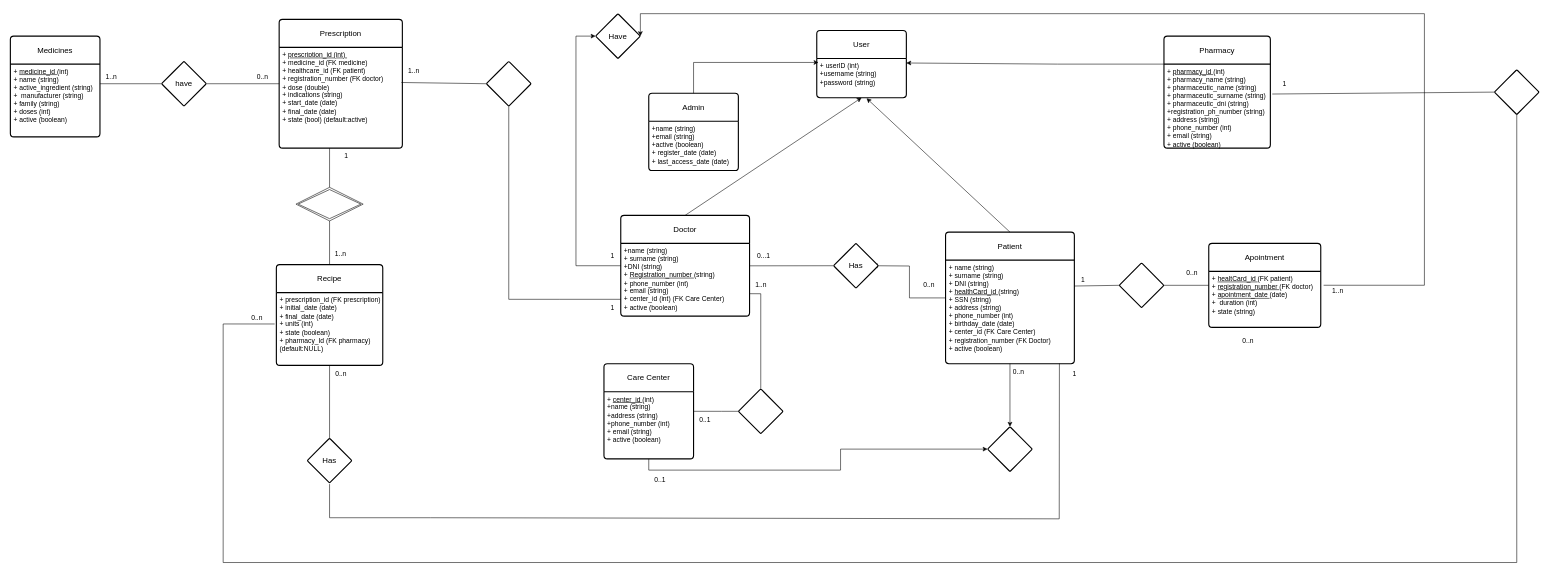
Image size: 1549x573. Some labels were removed from this diagram. The centre of each missing label's shape, as x and y in pixels:
"asiggned" belongs at [1141,285].
"Asigned to" belongs at [1010,449].
"contains" belongs at [329,204].
"made" belongs at [508,83].
"See" belongs at [1516,92].
"Works" belongs at [760,411].
